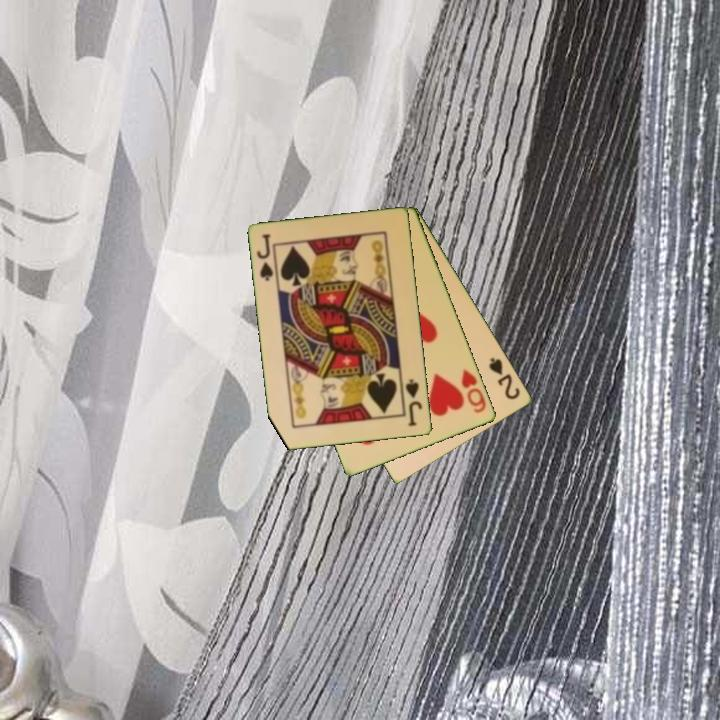2s: (485, 354, 523, 403)
6h: (458, 366, 489, 416)
Js: (402, 376, 425, 429), (254, 231, 276, 284)
